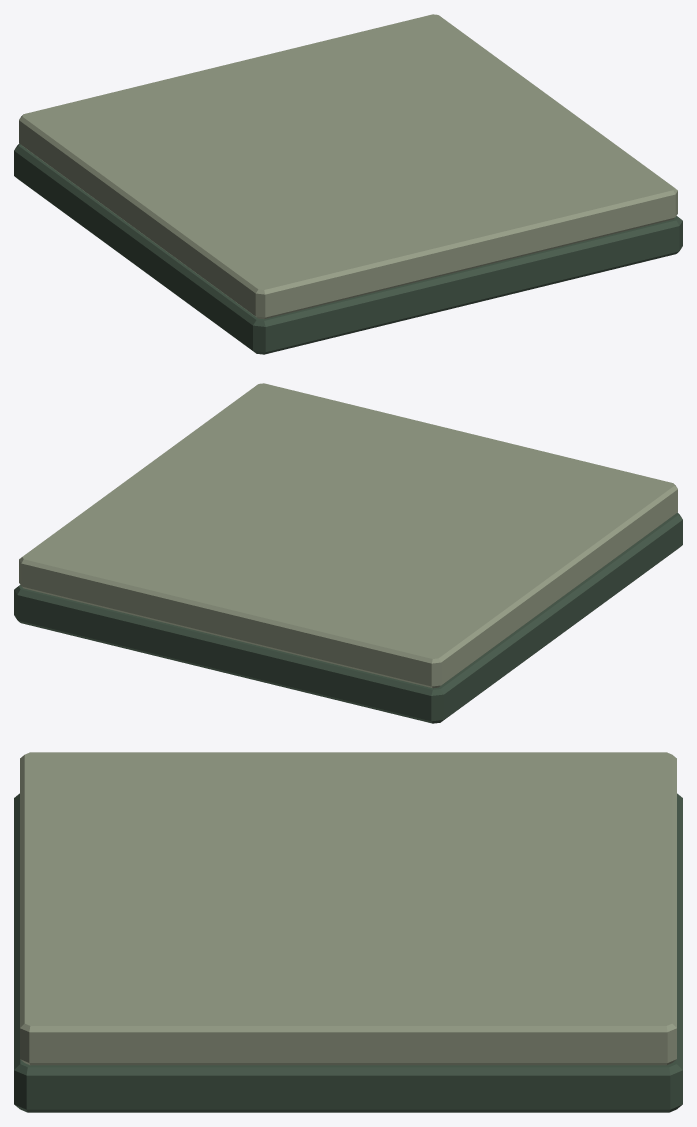
The model's file is floor-small.glb.
The picture shows the model from 3 angles, top to bottom: view 1: azimuth 30°, elevation 25°; view 2: azimuth 150°, elevation 25°; view 3: azimuth 270°, elevation 25°; orthographic projection. The views are drawn at different scales.
Parts seen in each view (by area): view 1: floor-small__body; view 2: floor-small__body; view 3: floor-small__body.
Part boxes in pixels (x1,y1,x2,y2): floor-small__body: (14, 14, 682, 354); floor-small__body: (14, 383, 682, 723); floor-small__body: (14, 752, 682, 1112).
Bounding box in the file's own units: 1 × 0.14 × 1.
